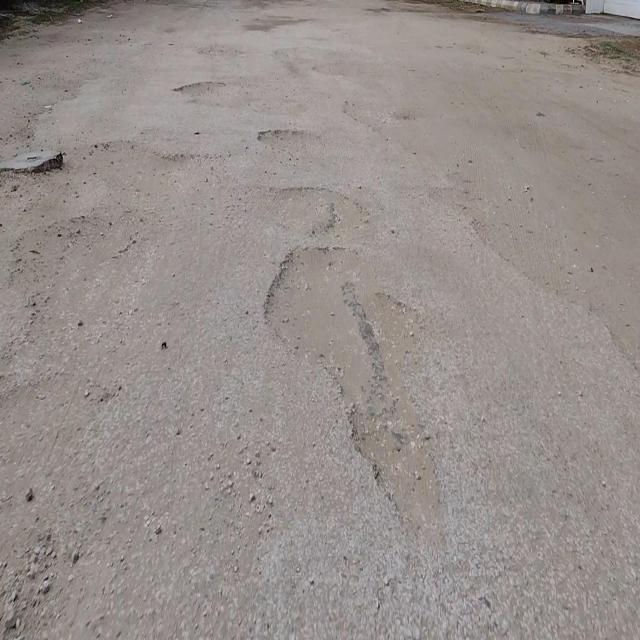Potholes: (259, 239, 446, 537), (256, 126, 315, 150)
